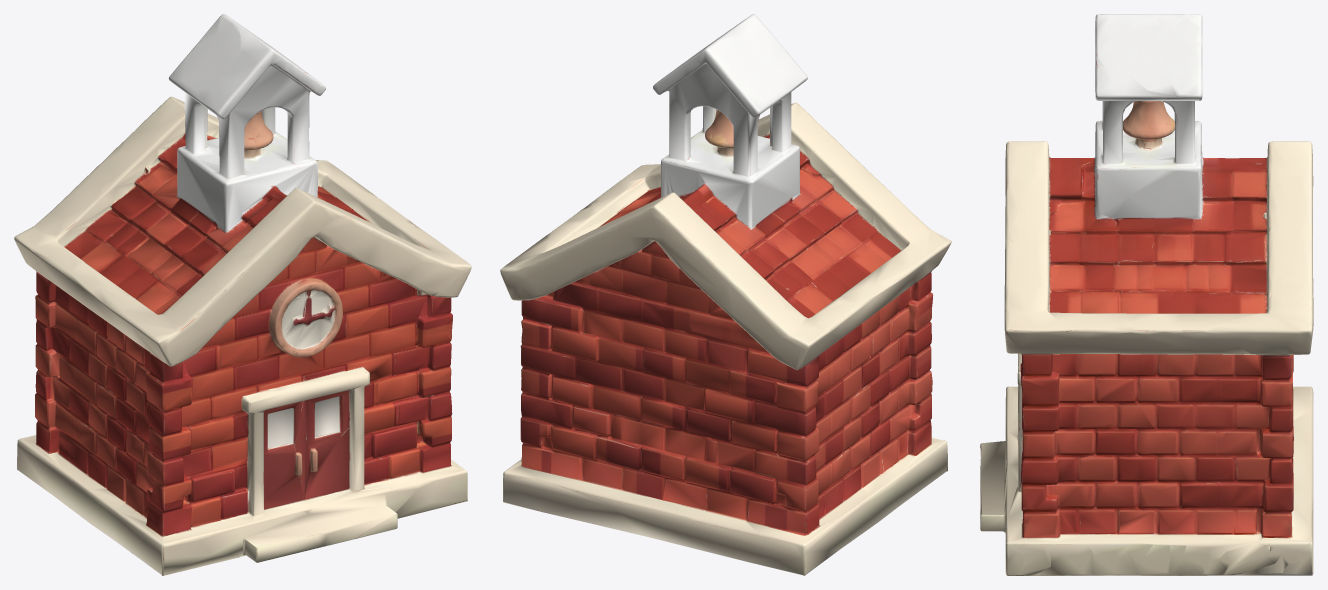
Rendered from 464daa25-a487-4aca-b81e-68ff8d33a15f.glb.
3 views of the same model, side by side, from view 1: azimuth 30°, elevation 25°; view 2: azimuth 150°, elevation 25°; view 3: azimuth 270°, elevation 25° (orthographic). The views are drawn at different scales.
Parts seen in each view (by area): view 1: Mesh_0; view 2: Mesh_0; view 3: Mesh_0.
Part boxes in pixels (x1,y1,x2,y2): Mesh_0: (14,14,471,575); Mesh_0: (500,14,951,575); Mesh_0: (980,14,1313,575).
Size of the model in its own units: 1.37 by 1.9 by 1.19.
1 material, 1 textured.
